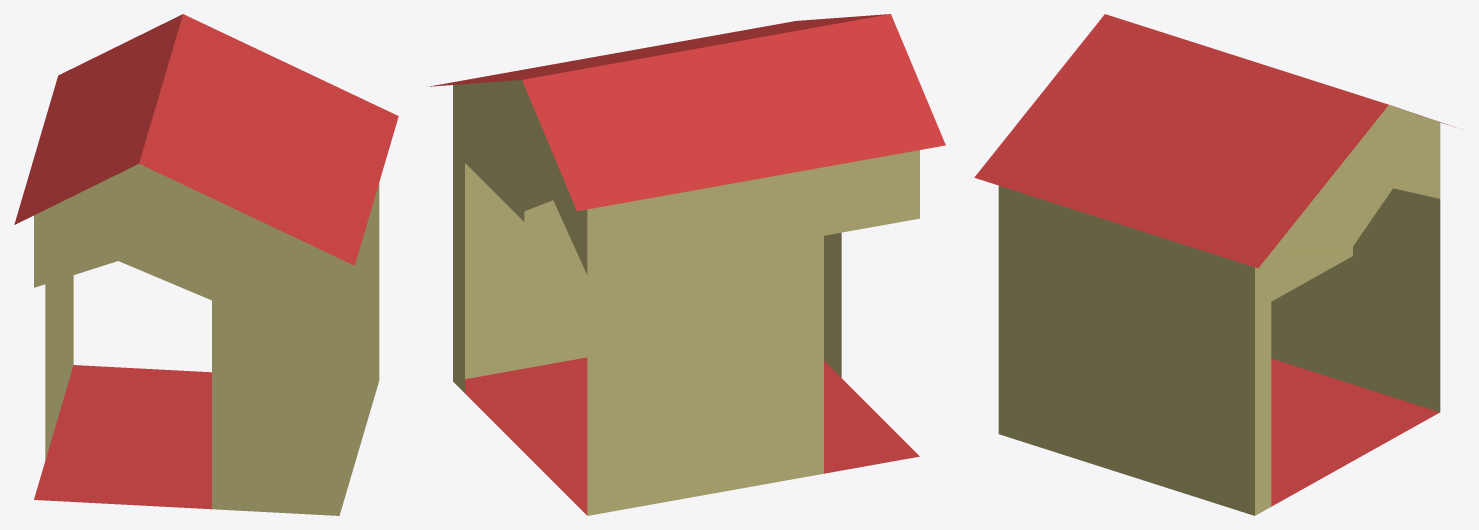
3 renders of one model, left to right at view 1: azimuth 30°, elevation 25°; view 2: azimuth 150°, elevation 25°; view 3: azimuth 270°, elevation 25°, orthographic. The views are drawn at different scales.
Size of the model in its own units: 13.89 by 13.96 by 10.94.
